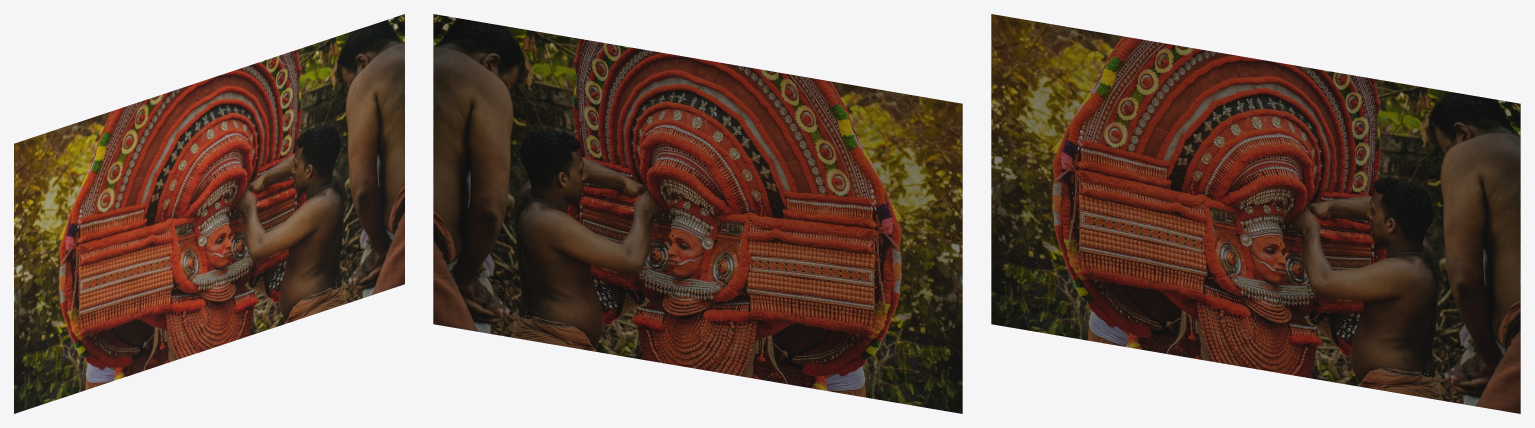
3 views of the same model, side by side, from view 1: azimuth 30°, elevation 25°; view 2: azimuth 150°, elevation 25°; view 3: azimuth 330°, elevation 25° (orthographic). The views are drawn at different scales.
Parts seen in each view (by area): view 1: 9; view 2: 9; view 3: 9.
Part boxes in pixels (left/top/right/bottom): 9: left=14, top=14, right=404, bottom=413; 9: left=433, top=14, right=962, bottom=413; 9: left=991, top=14, right=1520, bottom=413.
Size of the model in its own units: 2.44 by 1.48 by 0.3483.
Materials: 1 (1 with a texture image).
